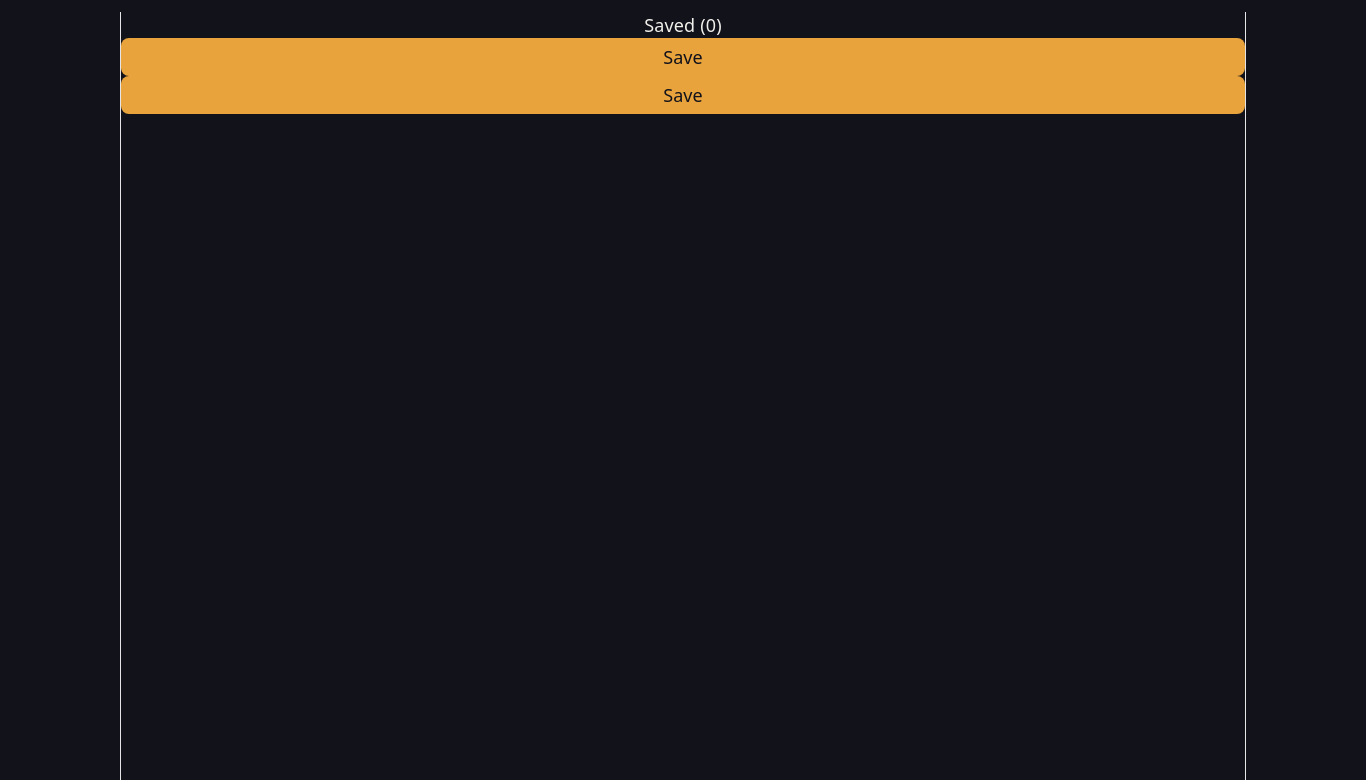
Test: favourites › the count follows the saved recipes
This screenshot has width=1366, height=780.
Expected: the text "Saved (0)" is shown, [644,13,722,37]
Click the 1st button "Save". click: (683, 57)
box: [121,38,1245,76]
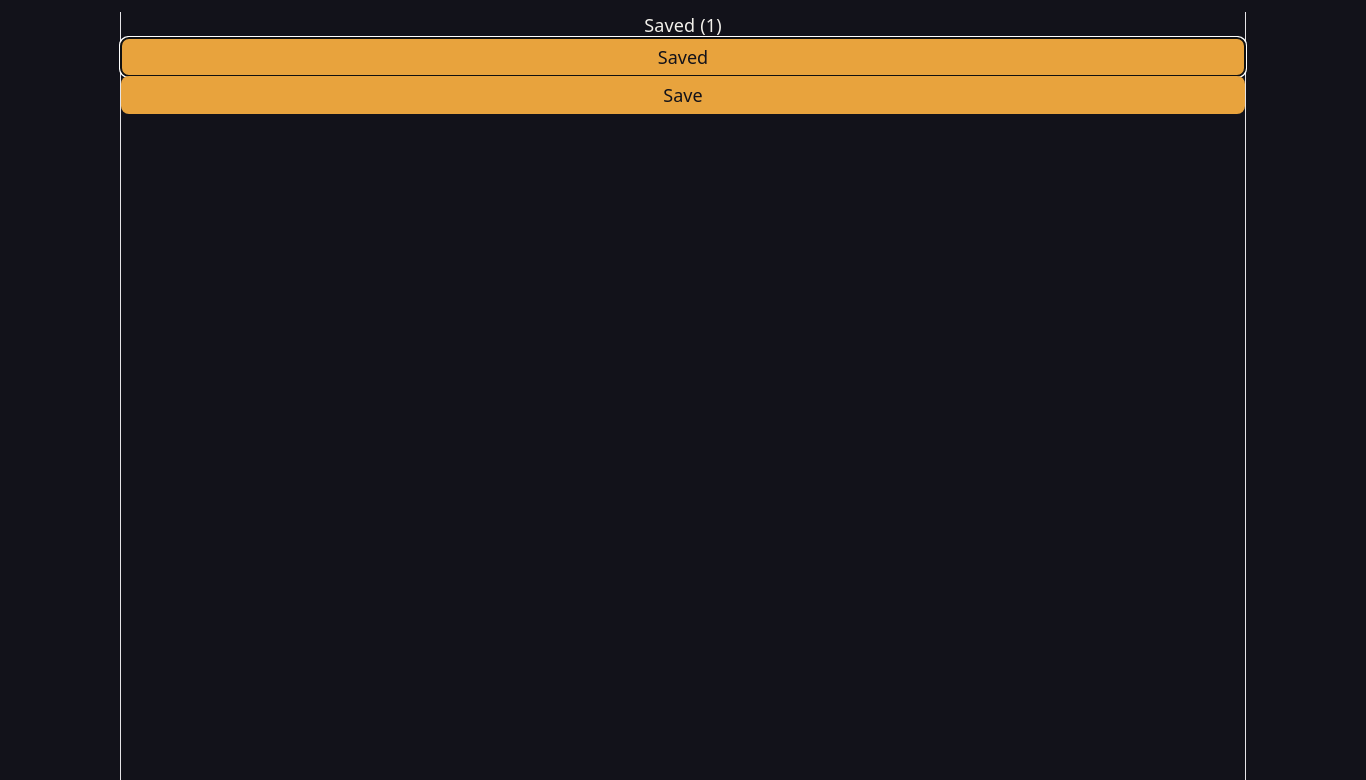
Click the button "Save". click: (683, 95)
box: [121,76,1245,114]
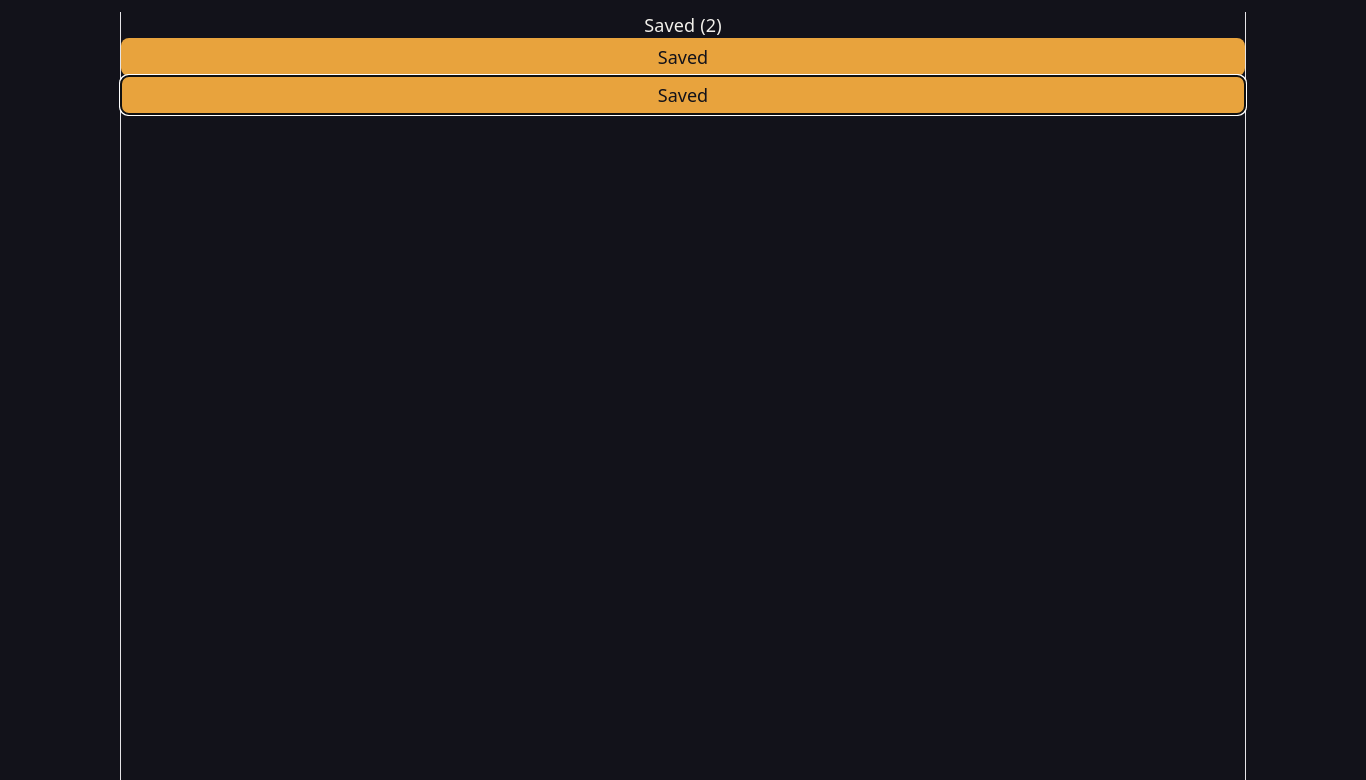
Result: the text "Saved (2)" is shown at [644,13,722,37]
